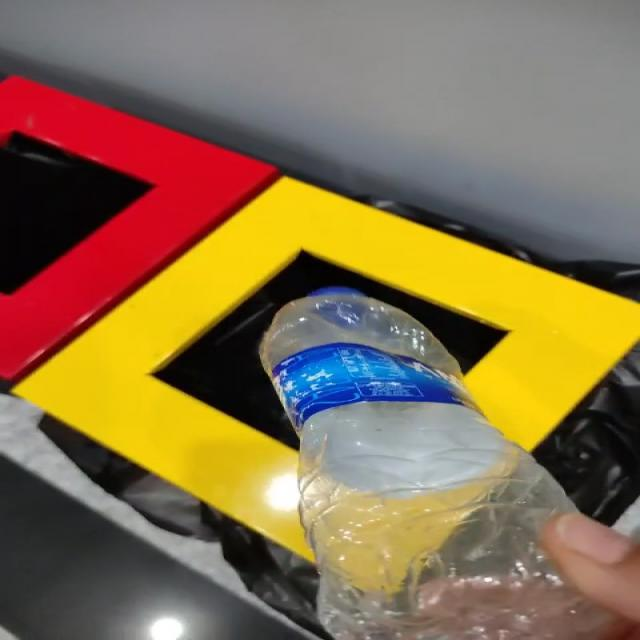plastic: (260, 287, 613, 640)
